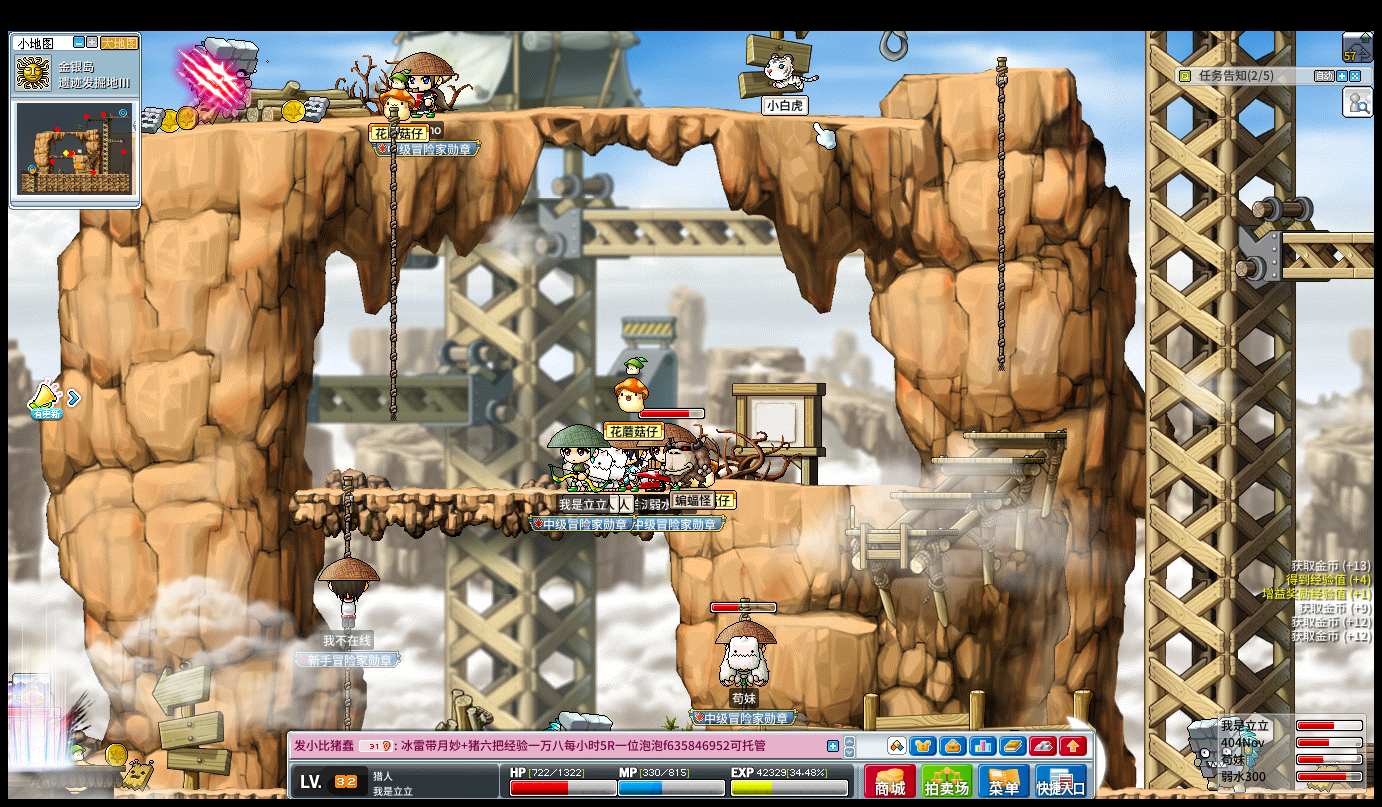floor: (142, 103, 929, 136), (298, 487, 622, 498), (901, 65, 1072, 78), (777, 612, 878, 634), (1274, 226, 1374, 243), (775, 480, 931, 490), (926, 454, 1043, 464), (961, 429, 1067, 440), (843, 527, 959, 536), (887, 488, 1002, 497), (887, 490, 1001, 499)
monster: (1188, 718, 1261, 792)
rope: (995, 50, 1010, 273), (389, 105, 398, 423), (993, 265, 1006, 368), (339, 474, 354, 557)
